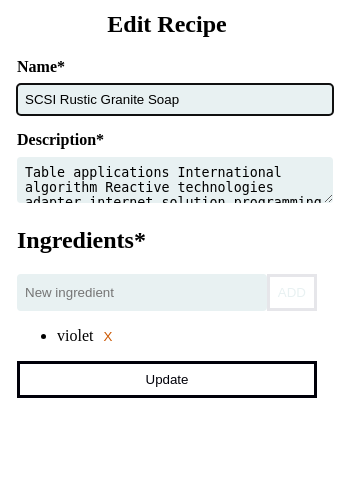
EditRecipe › renders error message when server error occurs during update
// Save recipe with same values to trigger the save functionality
Click the button "Update" at (167,379), box [17,361,317,398]
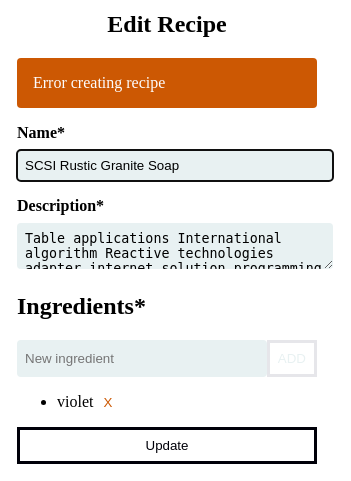
Expected: the text "Error creating recipe" is shown, [17,58,317,108]
